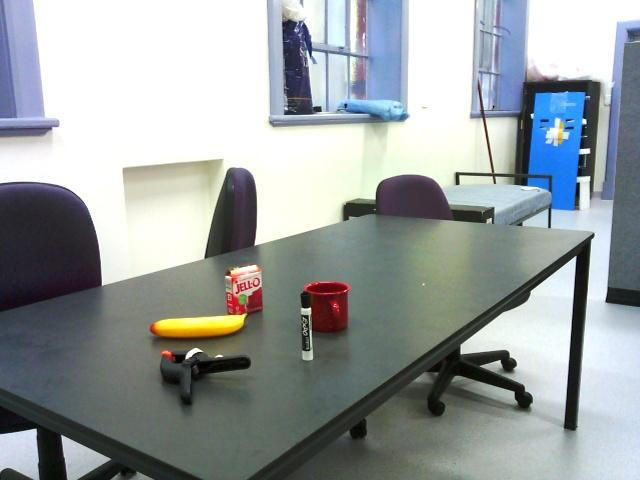009_gelatin_box: (224, 262, 264, 316)
011_banana: (147, 310, 250, 340)
025_mug: (303, 280, 351, 335)
040_large_marker: (298, 289, 316, 362)
051_large_clamp: (156, 346, 254, 408)
